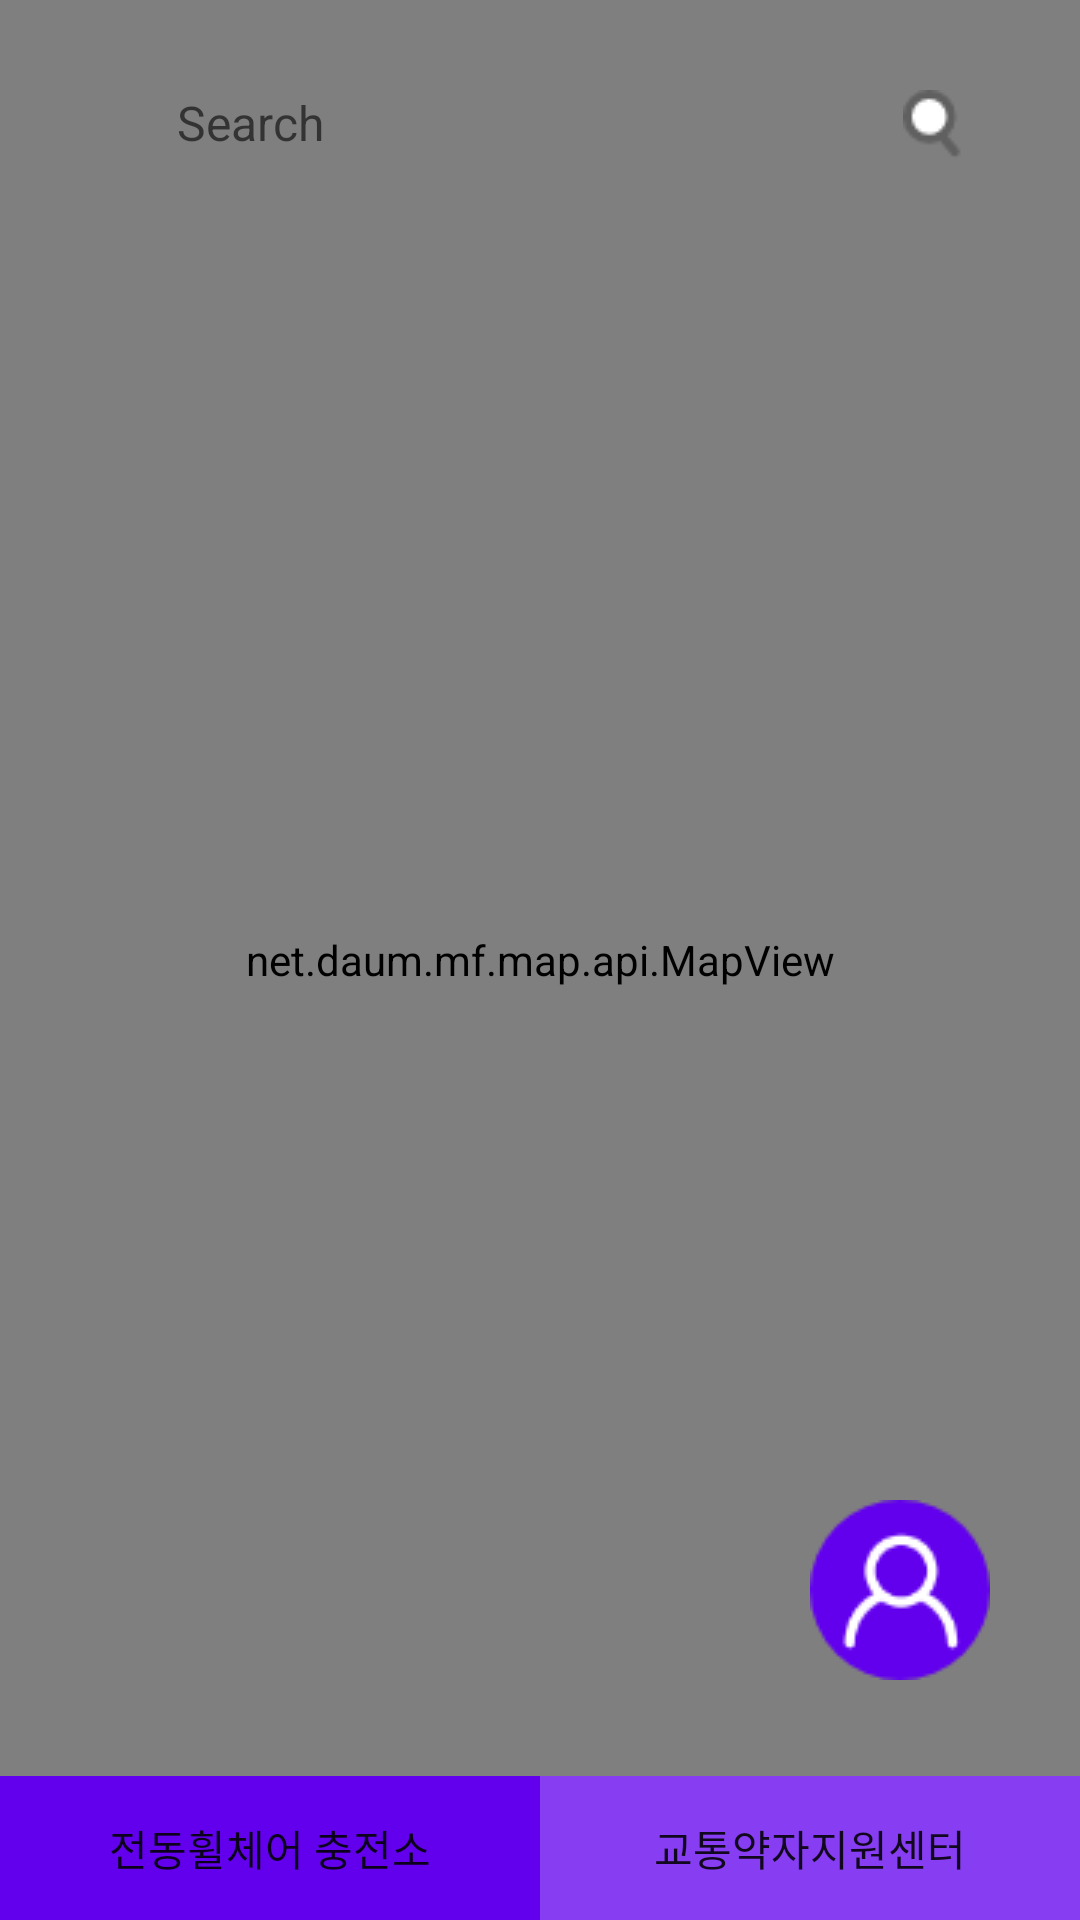

Screen size 1080*1920. Icon name, then its center in pixels as (x=x, y=y):
mypagebtn: (x=900, y=1590)
